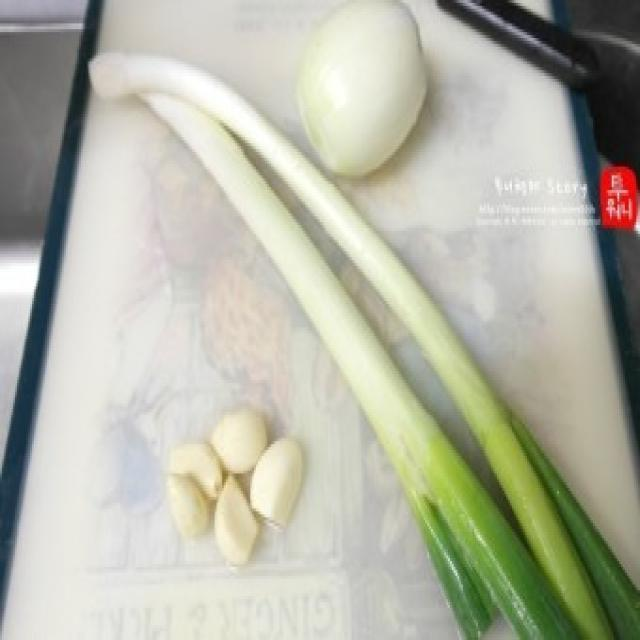onion: (289, 0, 439, 188)
